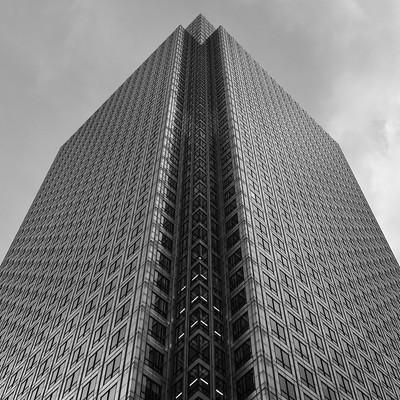building: (1, 11, 400, 400)
